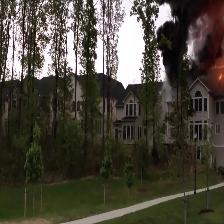smoke: (160, 0, 218, 71)
